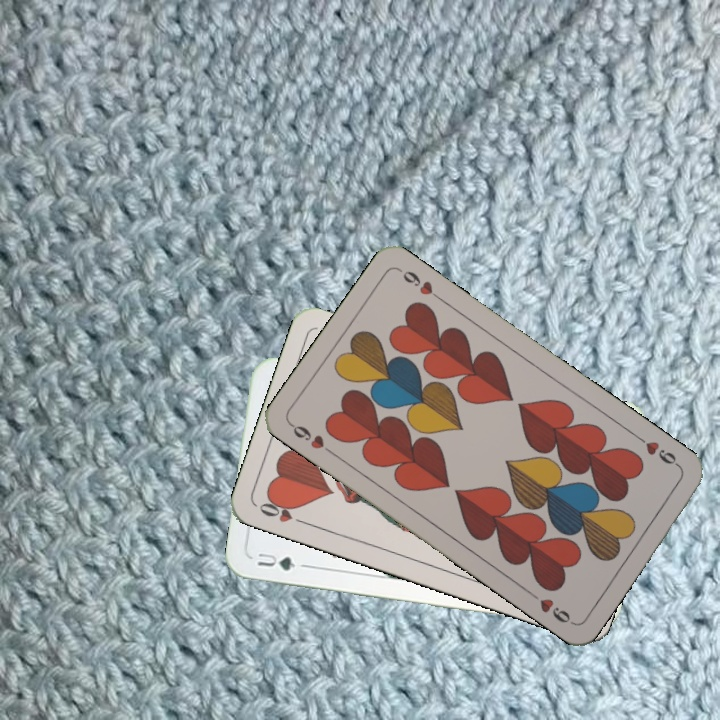GU: (253, 548, 298, 573)
H9: (632, 431, 684, 471), (286, 419, 338, 458)
HO: (255, 494, 311, 528)
